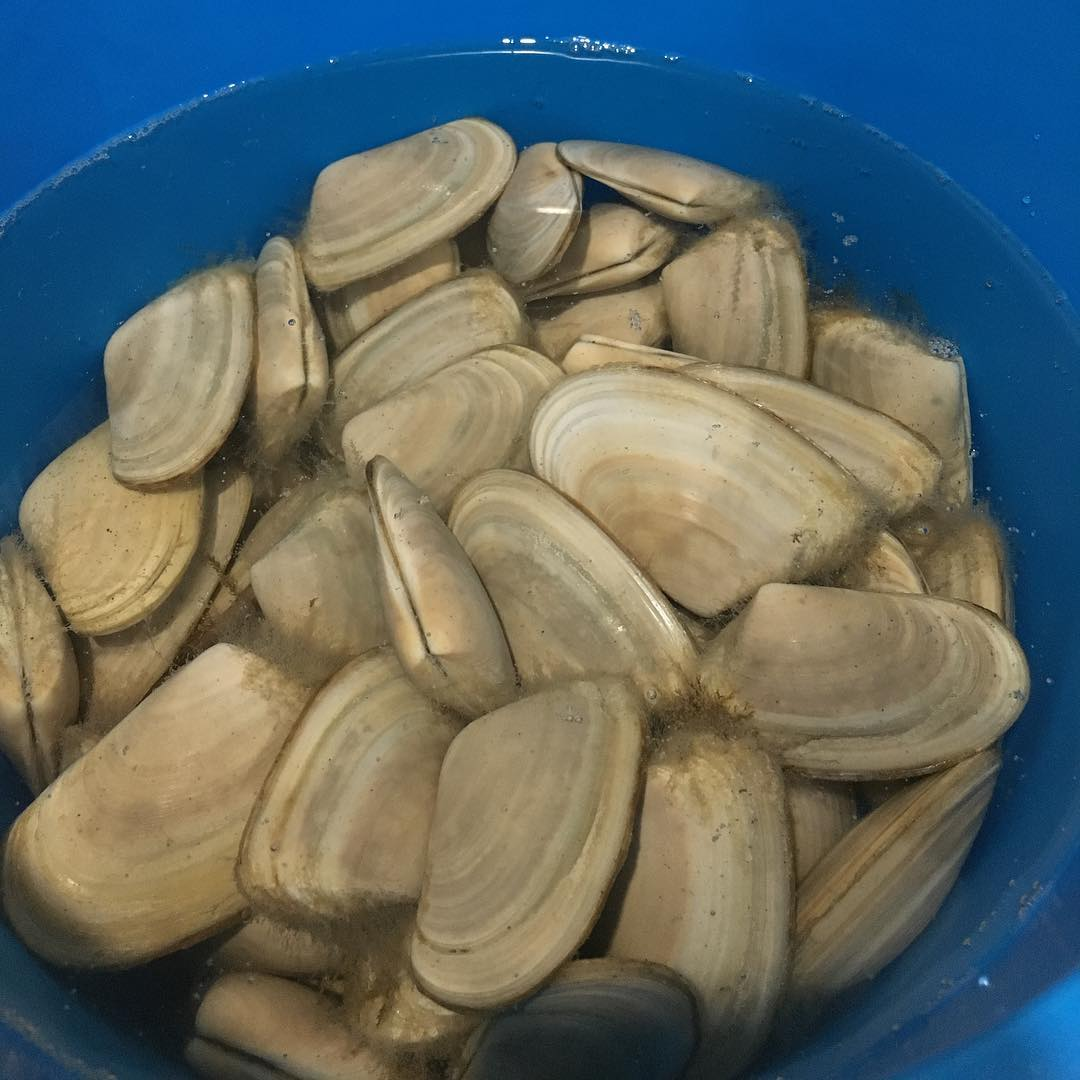tuatua: (11, 636, 293, 982), (524, 365, 873, 623), (414, 665, 650, 1001), (438, 460, 717, 732), (693, 571, 1032, 772), (790, 753, 1019, 1008), (240, 633, 422, 947), (642, 720, 797, 1072), (352, 453, 521, 718), (18, 412, 204, 633), (304, 110, 512, 285), (93, 260, 253, 485), (814, 299, 984, 510), (342, 339, 557, 492), (655, 206, 814, 375), (556, 129, 771, 230), (247, 232, 332, 477), (481, 143, 581, 287), (546, 205, 686, 289)
